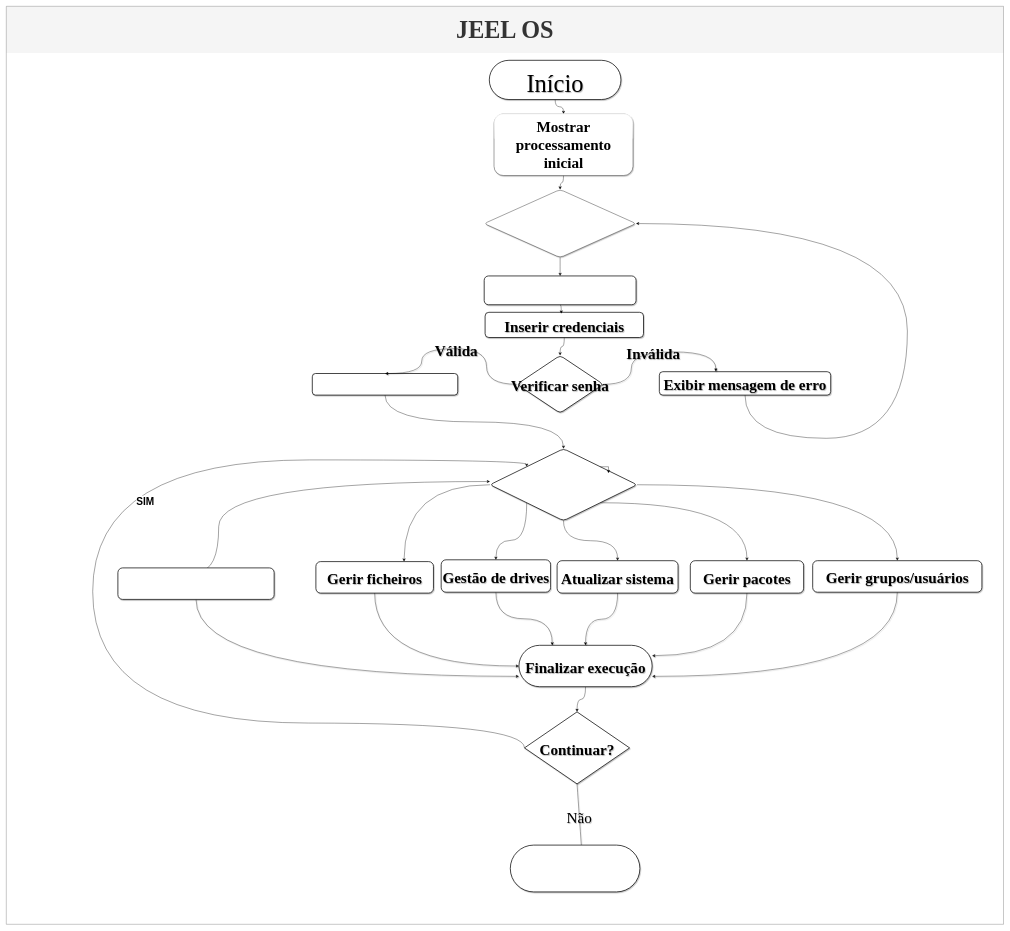
The diagram is 1010 pixels wide and 931 high, and some of its shapes have lost their labels. Each missing label, with the centre of its shape:
Acesso concedido: pixel 385 385
Encerrar sessão: pixel 575 869
Executar programas: pixel 196 584
Exibir tela de login: pixel 560 290
Selecionar acção: pixel 563 485
verifiar inicio sem senha: pixel 560 224
